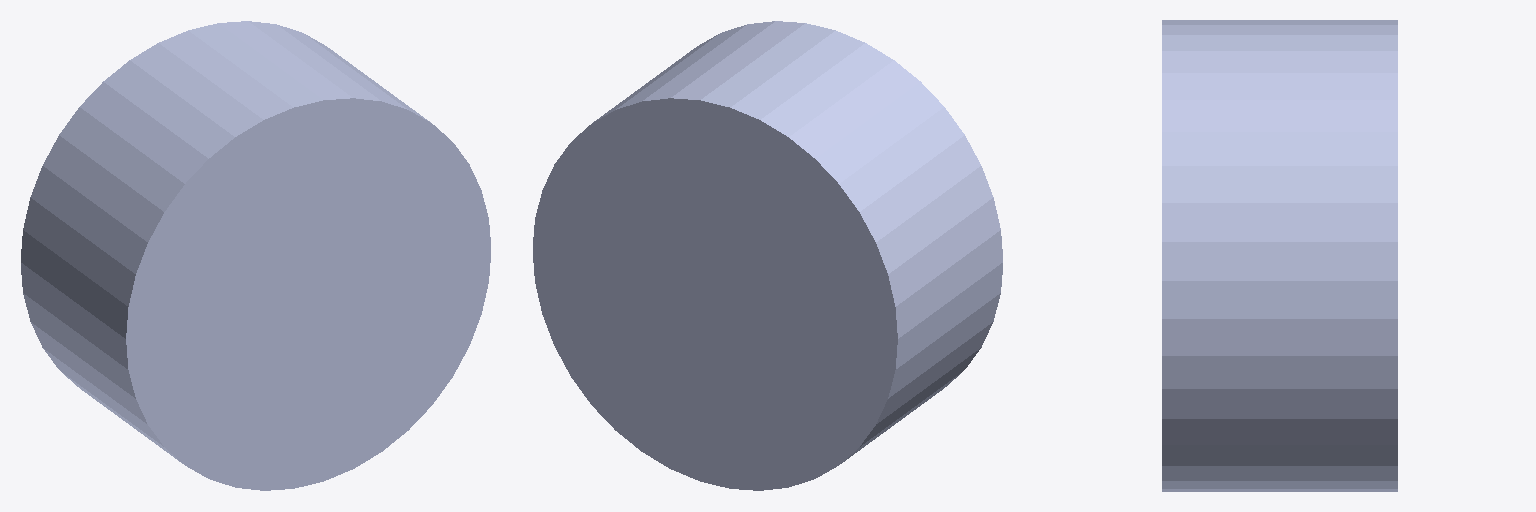
robot.urdf — tecobot:
<?xml version="1.0" encoding="utf-8"?>
<!-- This URDF was automatically created by SolidWorks to URDF Exporter! Originally created by [author] ([email redacted]) 
     Commit Version: 1.5.1-0-g916b5db  Build Version: 1.5.7152.31018
     For more information, please see http://wiki.ros.org/sw_urdf_exporter -->
<robot
  name="tecobot">
  <link name="dummy"/>
  <joint name="dummy_joint" type="fixed">
    <parent link="dummy"/>
    <child link="base_link"/>
    </joint>
  <link name='base_link'>
  <!-- <link
    name="base_link"> -->
    <inertial>
      <origin
        xyz="-5.89241082937383E-08 -0.000607195511176322 0.0324652849797199"
        rpy="0 0 0" />
      <mass
        value="0.72607336877639" />
      <inertia
        ixx="0.00214542503131186"
        ixy="-1.62560396395711E-09"
        ixz="1.75967015840072E-09"
        iyy="0.00217519049431956"
        iyz="-7.84469380222819E-06"
        izz="0.0035729713646278" />
    </inertial>
    <visual>
      <origin
        xyz="0 0 0"
        rpy="0 0 0" />
      <geometry>
        <mesh
          filename="package://tecobot/meshes/base_link.STL" />
      </geometry>
      <material
        name="">
        <color
          rgba="0.909803921568627 0.443137254901961 0.0313725490196078 1" />
      </material>
    </visual>
    <collision>
      <origin
        xyz="0 0 0"
        rpy="0 0 0" />
      <geometry>
        <mesh
          filename="package://tecobot/meshes/base_link.STL" />
      </geometry>
    </collision>
  </link>
  <link
    name="1">
    <inertial>
      <origin
        xyz="-1.55579201081481E-05 0.00265005484815443 -0.00640979059142413"
        rpy="0 0 0" />
      <mass
        value="0.706627496414257" />
      <inertia
        ixx="0.00141272985130314"
        ixy="-3.88244140794133E-07"
        ixz="-7.81252256421149E-07"
        iyy="0.00136161707453551"
        iyz="-1.57137483733753E-05"
        izz="0.00107347905043597" />
    </inertial>
    <visual>
      <origin
        xyz="0 0 0"
        rpy="0 0 0" />
      <geometry>
        <mesh
          filename="package://tecobot/meshes/1.STL" />
      </geometry>
      <material
        name="">
        <color
          rgba="0.250980392156863 0.250980392156863 0.250980392156863 1" />
      </material>
    </visual>
    <collision>
      <origin
        xyz="0 0 0"
        rpy="0 0 0" />
      <geometry>
        <mesh
          filename="package://tecobot/meshes/1.STL" />
      </geometry>
    </collision>
  </link>
  <joint
    name="j1"
    type="revolute">
    <origin
      xyz="0 0 0.130100000000606"
      rpy="3.14159265358979 0 0" />
    <parent
      link="base_link" />
    <child
      link="1" />
    <axis
      xyz="0 0 -1" />
    <limit
      lower="-6.28"
      upper="6.28"
      effort="1000"
      velocity="1.0" />
  </joint>
  <link
    name="2">
    <inertial>
      <origin
        xyz="4.90637956589368E-11 0.205571973027702 -0.00335989805856342"
        rpy="0 0 0" />
      <mass
        value="1.81432701922486" />
      <inertia
        ixx="0.0657181782547282"
        ixy="-4.70754566707126E-06"
        ixz="1.3134801419487E-11"
        iyy="0.00340245408914578"
        iyz="-0.00019327880087556"
        izz="0.0648885288783243" />
    </inertial>
    <visual>
      <origin
        xyz="0 0 0"
        rpy="0 0 0" />
      <geometry>
        <mesh
          filename="package://tecobot/meshes/2.STL" />
      </geometry>
      <material
        name="">
        <color
          rgba="0.250980392156863 0.250980392156863 0.250980392156863 1" />
      </material>
    </visual>
    <collision>
      <origin
        xyz="0 0 0"
        rpy="0 0 0" />
      <geometry>
        <mesh
          filename="package://tecobot/meshes/2.STL" />
      </geometry>
    </collision>
  </link>
  <joint
    name="j2"
    type="revolute">
    <origin
      xyz="0 0.11115 0"
      rpy="-1.5708 0 3.1416" />
    <parent
      link="1" />
    <child
      link="2" />
    <axis
      xyz="0 0 -1" />
    <limit
      lower="-6.28"
      upper="6.28"
      effort="1000"
      velocity="1.0" />
  </joint>
  <link
    name="3">
    <inertial>
      <origin
        xyz="-9.75479428030767E-05 0.271025707847572 0.111573843205116"
        rpy="0 0 0" />
      <mass
        value="0.44267362700812" />
      <inertia
        ixx="0.00846779109060532"
        ixy="4.25798083740882E-06"
        ixz="2.9703298408818E-06"
        iyy="0.000577298267323756"
        iyz="-0.000161368520266658"
        izz="0.00835212590831791" />
    </inertial>
    <visual>
      <origin
        xyz="0 0 0"
        rpy="0 0 0" />
      <geometry>
        <mesh
          filename="package://tecobot/meshes/3.STL" />
      </geometry>
      <material
        name="">
        <color
          rgba="0.250980392156863 0.250980392156863 0.250980392156863 1" />
      </material>
    </visual>
    <collision>
      <origin
        xyz="0 0 0"
        rpy="0 0 0" />
      <geometry>
        <mesh
          filename="package://tecobot/meshes/3.STL" />
      </geometry>
    </collision>
  </link>
  <joint
    name="j3"
    type="revolute">
    <origin
      xyz="0 0.408000000000056 0"
      rpy="0 0 0" />
    <parent
      link="2" />
    <child
      link="3" />
    <axis
      xyz="0 0 -1" />
    <limit
      lower="-6.28"
      upper="6.28"
      effort="1000"
      velocity="1.0" />
  </joint>
  <link
    name="4">
    <inertial>
      <origin
        xyz="-0.000181761828397664 0.00219045749084071 -0.000800397394362884"
        rpy="0 0 0" />
      <mass
        value="0.240053004221894" />
      <inertia
        ixx="0.000357585780296645"
        ixy="-4.01845028318451E-07"
        ixz="-2.83495321785281E-06"
        iyy="0.000344725616321976"
        iyz="-2.81917197935311E-06"
        izz="0.000285365736577025" />
    </inertial>
    <visual>
      <origin
        xyz="0 0 0"
        rpy="0 0 0" />
      <geometry>
        <mesh
          filename="package://tecobot/meshes/4.STL" />
      </geometry>
      <material
        name="">
        <color
          rgba="0.250980392156863 0.250980392156863 0.250980392156863 1" />
      </material>
    </visual>
    <collision>
      <origin
        xyz="0 0 0"
        rpy="0 0 0" />
      <geometry>
        <mesh
          filename="package://tecobot/meshes/4.STL" />
      </geometry>
    </collision>
  </link>
  <joint
    name="j4"
    type="revolute">
    <origin
      xyz="0 0.372499999999936 0.0109000000011954"
      rpy="1.57079632675385 0 -3.14159265356591" />
    <parent
      link="3" />
    <child
      link="4" />
    <axis
      xyz="0 1 0" />
    <limit
      lower="-6.28"
      upper="6.28"
      effort="300"
      velocity="1.0" />
  </joint>
  <link
    name="5">
    <inertial>
      <origin
        xyz="-0.000192919655058627 -0.00232492307126431 0.00352418959262345"
        rpy="0 0 0" />
      <mass
        value="0.22616916171284" />
      <inertia
        ixx="0.000319896405798474"
        ixy="2.78135338346529E-07"
        ixz="2.71610728082593E-06"
        iyy="0.000307746360436311"
        iyz="-4.25141250562973E-06"
        izz="0.00026883500127194" />
    </inertial>
    <visual>
      <origin
        xyz="0 0 0"
        rpy="0 0 0" />
      <geometry>
        <mesh
          filename="package://tecobot/meshes/5.STL" />
      </geometry>
      <material
        name="">
        <color
          rgba="0.250980392156863 0.250980392156863 0.250980392156863 1" />
      </material>
    </visual>
    <collision>
      <origin
        xyz="0 0 0"
        rpy="0 0 0" />
      <geometry>
        <mesh
          filename="package://tecobot/meshes/5.STL" />
      </geometry>
    </collision>
  </link>
  <joint
    name="j5"
    type="revolute">
    <origin
      xyz="0 0 0.0900000000005329"
      rpy="1.57079632675672 0 3.14159265358979" />
    <parent
      link="4" />
    <child
      link="5" />
    <axis
      xyz="0 -1 0" />
    <limit
      lower="-6.28"
      upper="6.28"
      effort="300"
      velocity="1.0" />
  </joint>
  <link
    name="6">
    <inertial>
      <origin
        xyz="-4.4856E-13 0 0.025"
        rpy="0 0 0" />
      <mass
        value="0.3927" />
      <inertia
        ixx="0.00032725"
        ixy="1.2071E-31"
        ixz="-2.9355E-15"
        iyy="0.00032725"
        iyz="1.09E-19"
        izz="0.00049087" />
    </inertial>
    <visual>
      <origin
        xyz="0 0 0"
        rpy="0 0 0" />
      <geometry>
        <mesh
          filename="package://tecobot/meshes/6.STL" />
      </geometry>
      <material
        name="">
        <color
          rgba="0.79216 0.81961 0.93333 1" />
      </material>
    </visual>
    <collision>
      <origin
        xyz="0 0 0"
        rpy="0 0 0" />
      <geometry>
        <mesh
          filename="package://tecobot/meshes/6.STL" />
      </geometry>
    </collision>
  </link>
  <joint
    name="j6"
    type="revolute">
    <origin
      xyz="0 0 -0.047999999999993"
      rpy="3.14159265358979 0 3.14159265358979" />
    <parent
      link="5" />
    <child
      link="6" />
    <axis
      xyz="0 0 -1" />
    <limit
      lower="-6.28"
      upper="6.28"
      effort="300"
      velocity="1.0" />
  </joint>

  <!-- Add the tcp (tutorial 2) -->
  <link name="prbt_tcp"/>
      
  <!-- <joint name="table_joint" type="fixed">
    <parent link="6"/>
    <child link="prbt_base_link"/>
  </joint>

  <joint name="pnoz_joint" type="fixed">
    <parent link="6"/>
    <child link="pnoz"/>
  </joint> -->

  <!-- connect the added tcp and the flange with a joint (tutorial 2)-->
  <joint name="prbt_fixed_joint_tcp" type="fixed">
    <origin rpy="0 0 0" xyz="0 0 0.05"/>
    <parent link="6"/>
    <child link="prbt_tcp"/>
  </joint>

</robot>

--- Render facts (derived) ---
The picture shows the robot from 3 angles, left to right: view 1: azimuth 30°, elevation 25°; view 2: azimuth 150°, elevation 25°; view 3: azimuth 270°, elevation 25°; orthographic projection.
Robot: tecobot — 9 links, 8 joints (6 revolute, 2 fixed); root link dummy; default pose: all joints at 0.
Links seen in each view (by area): view 1: 6; view 2: 6; view 3: 6.
Boxes of the visible links, bbox=[...] form: 6: bbox=[21, 21, 490, 490]; 6: bbox=[533, 21, 1002, 490]; 6: bbox=[1162, 20, 1397, 491].
Size in the robot's own frame: 0.1 by 0.05 by 0.0997 metres.
Meshes: 7 distinct files referenced, 1 mesh visuals loaded (1 binary STL); not drawn: 6 (reference not matched to a file when rendering).